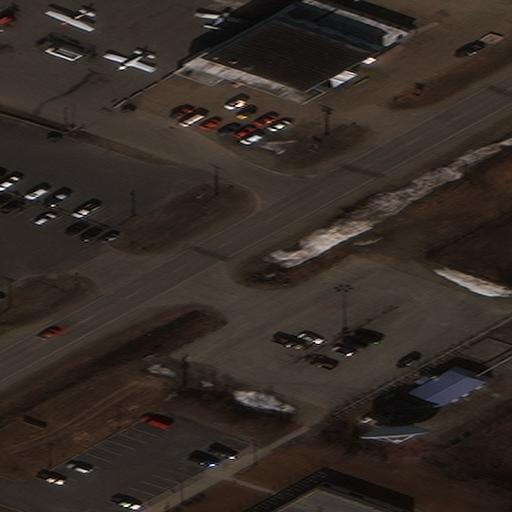Small Civil Transport: (102, 51, 152, 72), (44, 9, 89, 32), (193, 11, 250, 29)
